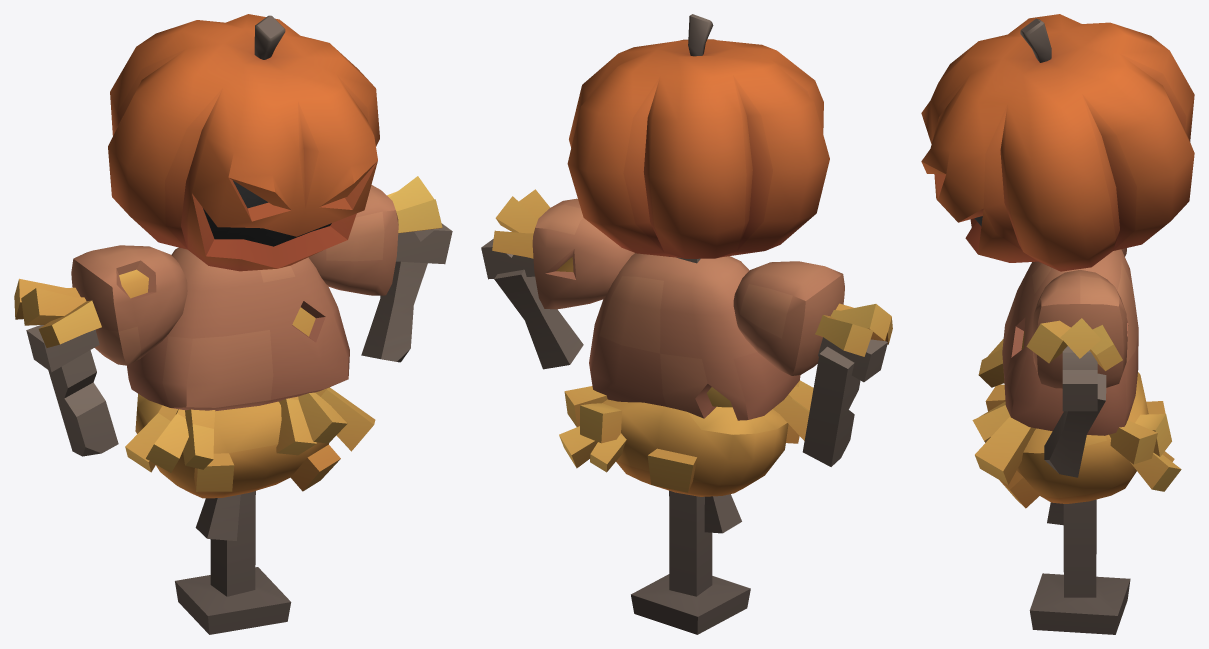
Rendered from scarecrow.gltf.
3 renders of one model, left to right at view 1: azimuth 30°, elevation 25°; view 2: azimuth 150°, elevation 25°; view 3: azimuth 270°, elevation 25°, orthographic. The views are drawn at different scales.
Parts seen in each view (by area): view 1: scarecrow; view 2: scarecrow; view 3: scarecrow.
Boxes of the visible parts, x1,y1,x2,y2 form: scarecrow: [14, 14, 452, 634]; scarecrow: [481, 14, 892, 634]; scarecrow: [921, 14, 1194, 634].
Bounding box in the file's own units: 1.67 × 2.33 × 0.9573.
Materials: 1 (1 with a texture image).
